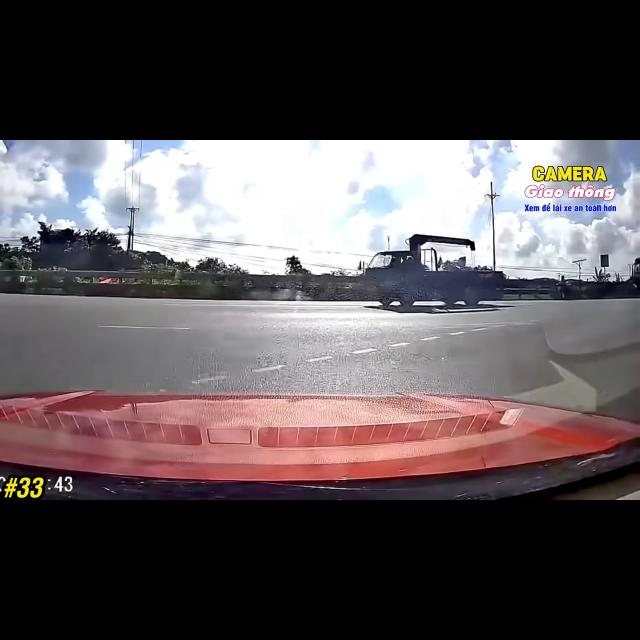truck: (363, 234, 505, 306), (632, 258, 640, 290)
